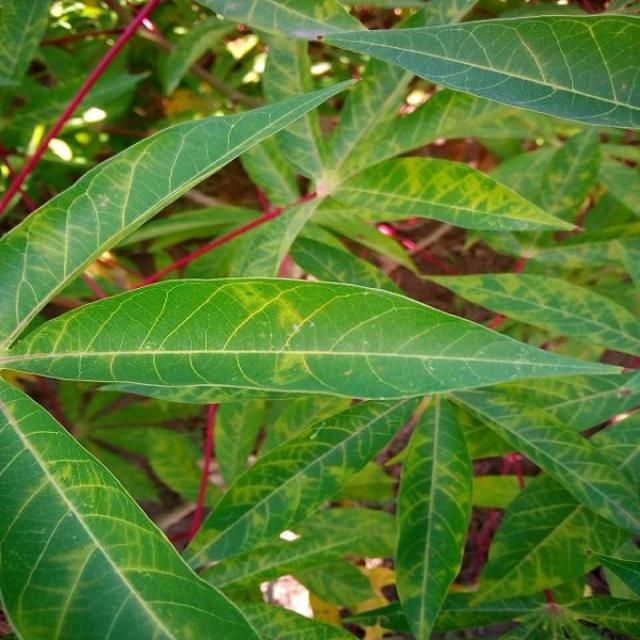cassava leaf: (0, 4, 638, 638), (0, 71, 360, 348), (1, 273, 630, 406), (0, 375, 261, 638)
